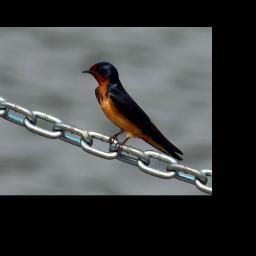Swallow: (81, 61, 184, 164)
